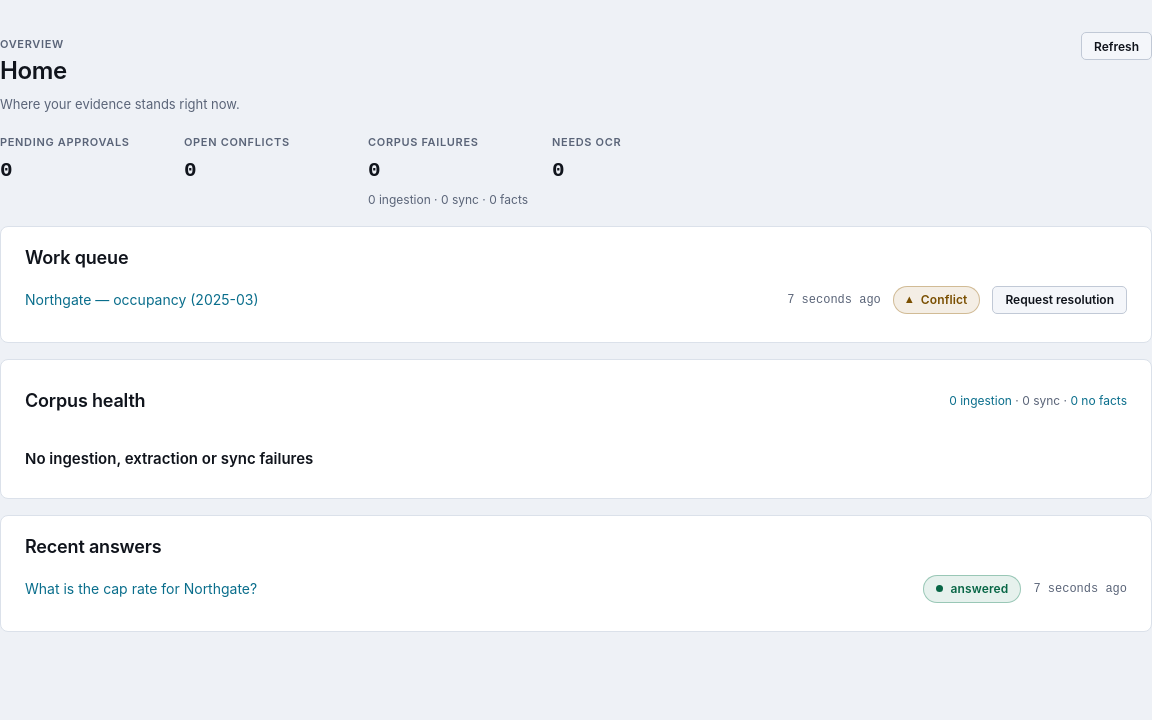
Test: HomePage › requests resolution on a recommended conflict inline from the work queue
Expected: the list item "Northgate — occupancy (2025-03)" is shown, [25, 289, 259, 311]
Click the button with aria-label "Request resolution, Northgate — occupancy (2025-03)" at [1060, 300], box [992, 286, 1127, 314]
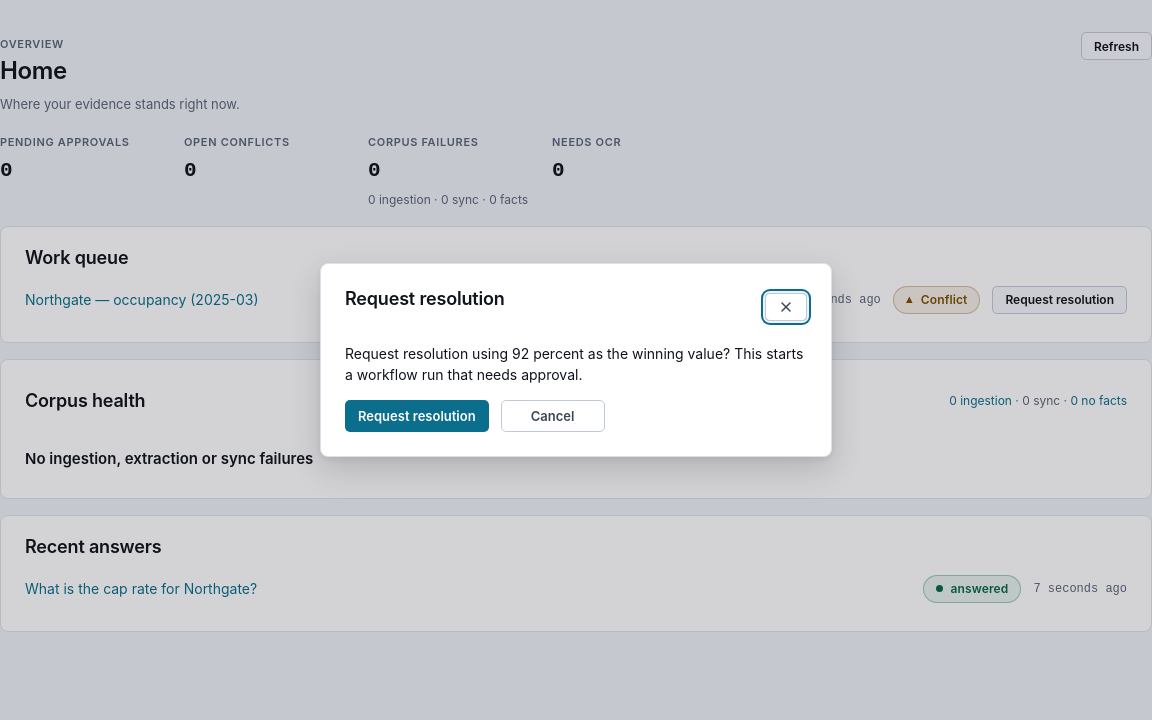
Result: the text "92 percent as the winning value" is shown at [345, 345, 803, 383]
Click the button "Request resolution" at [417, 416], box [345, 400, 489, 432]
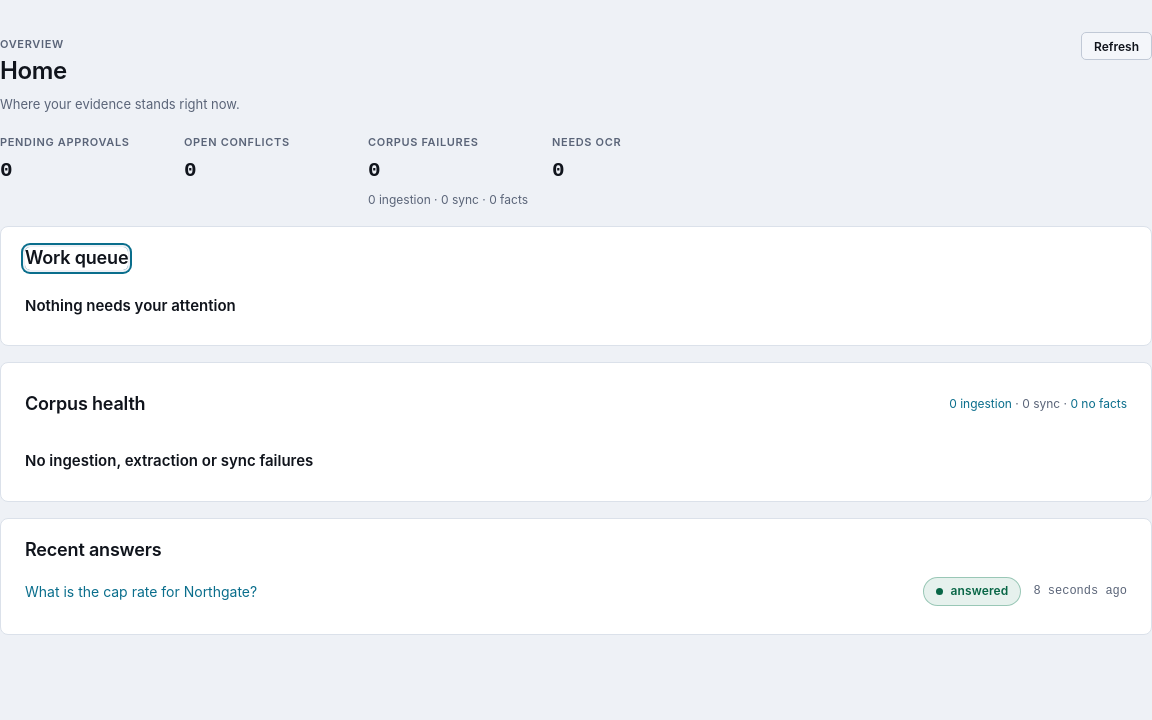
Result: the dialog is gone
Result: the link "Northgate — occupancy (2025-03)" is gone
